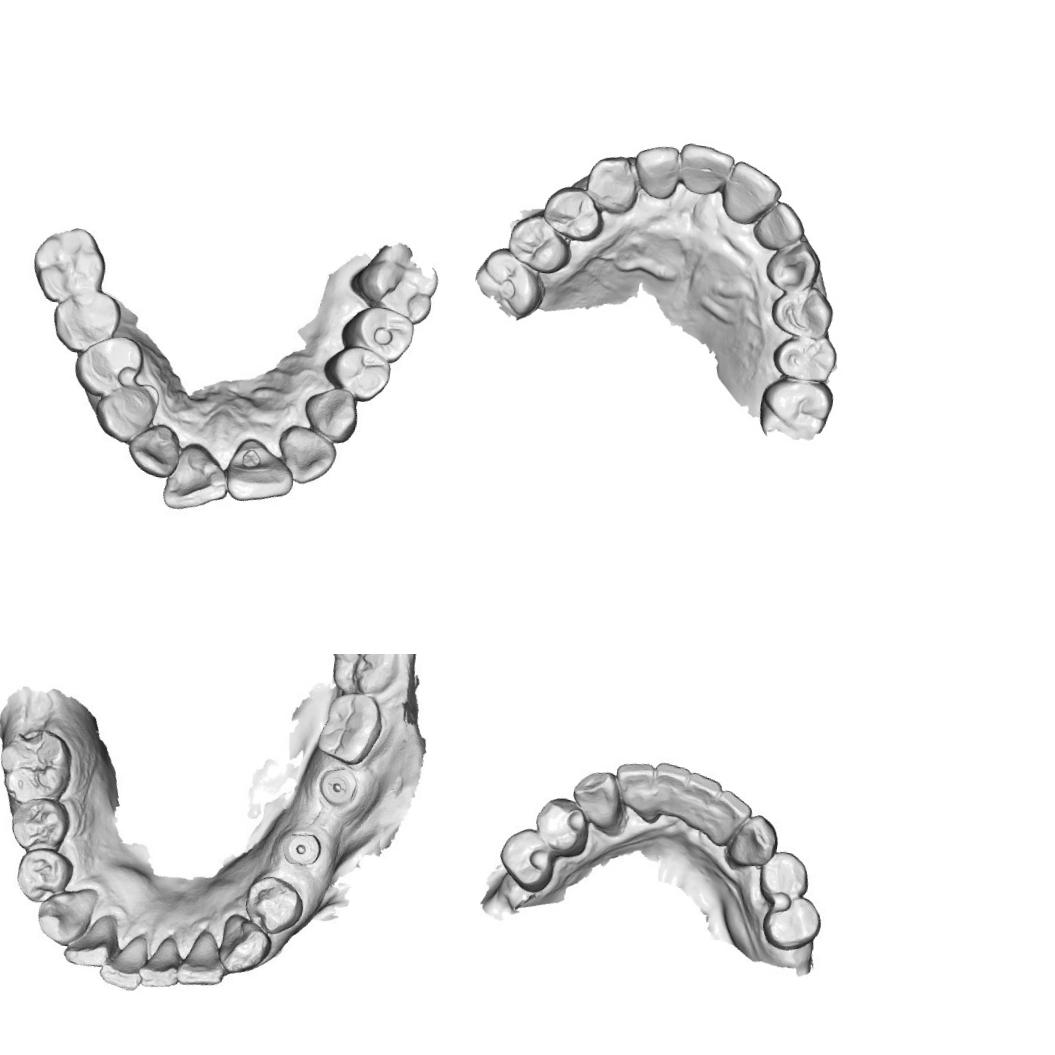canine: (30, 878, 102, 952), (88, 379, 162, 449), (567, 765, 630, 837), (580, 148, 642, 218), (759, 238, 828, 300), (300, 385, 364, 448), (724, 809, 782, 872), (218, 918, 274, 980)
implant: (284, 827, 325, 868)
implant_minus: (316, 766, 364, 808)
incisor: (221, 433, 297, 509), (158, 439, 232, 517), (717, 157, 788, 231), (274, 420, 340, 488), (122, 417, 182, 484), (674, 140, 736, 202), (747, 196, 810, 256), (628, 140, 683, 203), (64, 911, 121, 971), (180, 926, 229, 992), (609, 754, 660, 817), (96, 932, 148, 992), (708, 789, 758, 849), (141, 932, 187, 991), (678, 771, 724, 830), (649, 760, 694, 819)
molar: (348, 238, 443, 326), (26, 219, 114, 312), (474, 243, 551, 322), (316, 688, 389, 767), (0, 728, 75, 804), (754, 374, 832, 440), (326, 654, 406, 696)
premolar: (47, 282, 124, 358), (502, 205, 577, 280), (70, 329, 144, 404), (336, 300, 418, 365), (494, 824, 560, 898), (317, 340, 392, 405), (529, 792, 596, 864), (758, 888, 826, 956), (767, 282, 839, 344), (538, 182, 606, 245), (769, 332, 841, 386), (238, 876, 304, 933), (755, 845, 812, 905), (14, 848, 74, 902), (10, 800, 72, 852)
